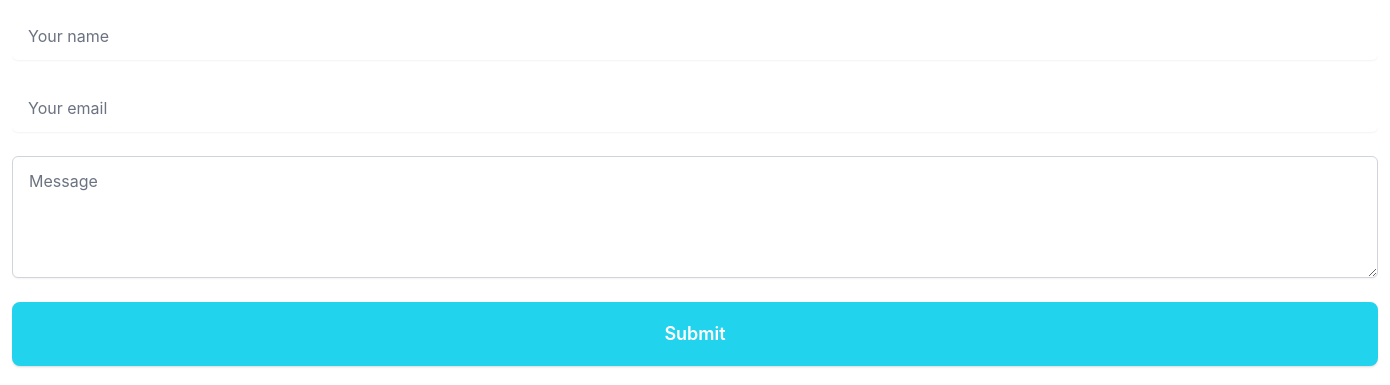
Test: does not send the email and informs me something went wrong
The width and height of the screenshot is (1390, 385).
Note: an email including "error" will result in a 500 response
Step 1. Type "error@example.com" into the field labelled "Your email" → x=695, y=108, box x1=12 y1=84 x2=1378 y2=132
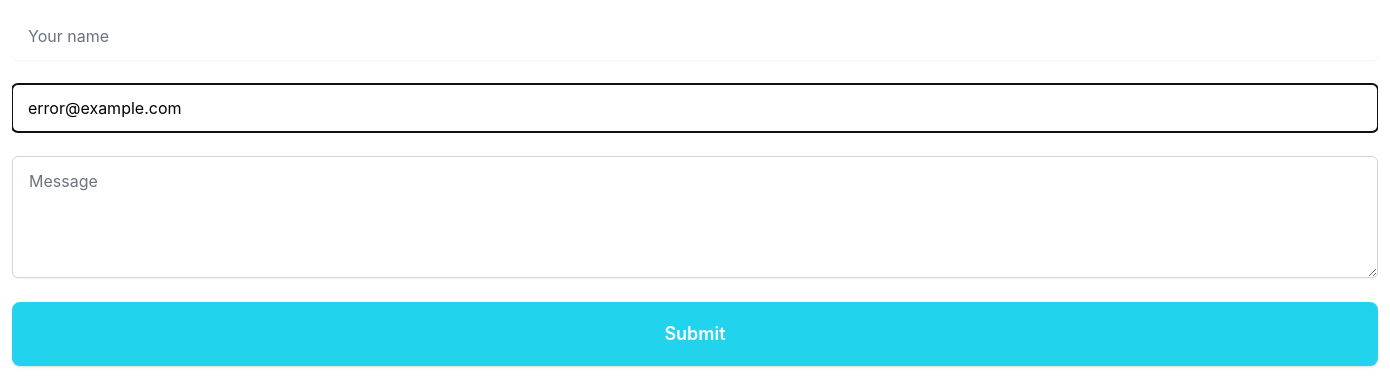
Step 2. Type "Elena Example" into the field labelled "Your name" → x=695, y=36, box x1=12 y1=12 x2=1378 y2=60
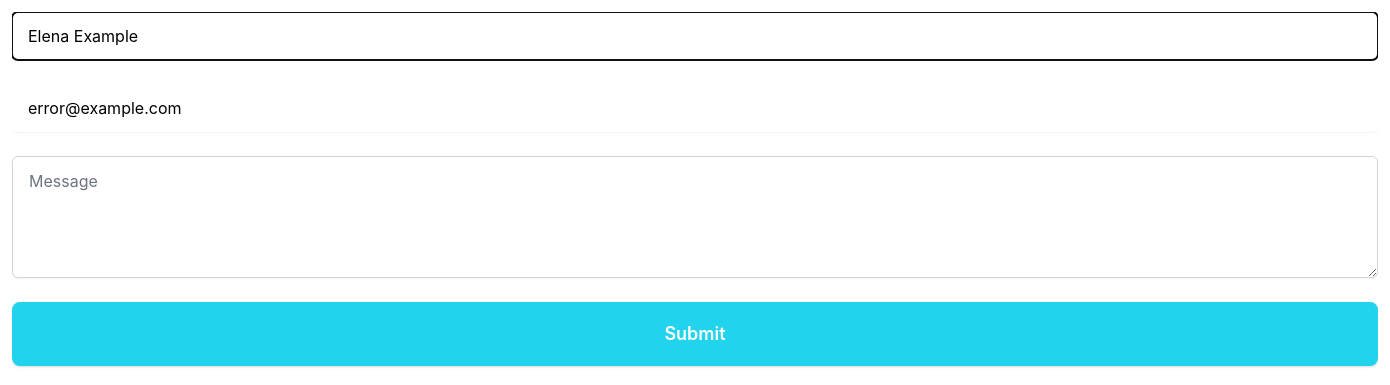
Step 3. Type "We should work together!" into the text box labelled "Message" → x=695, y=217, box x1=12 y1=156 x2=1378 y2=278
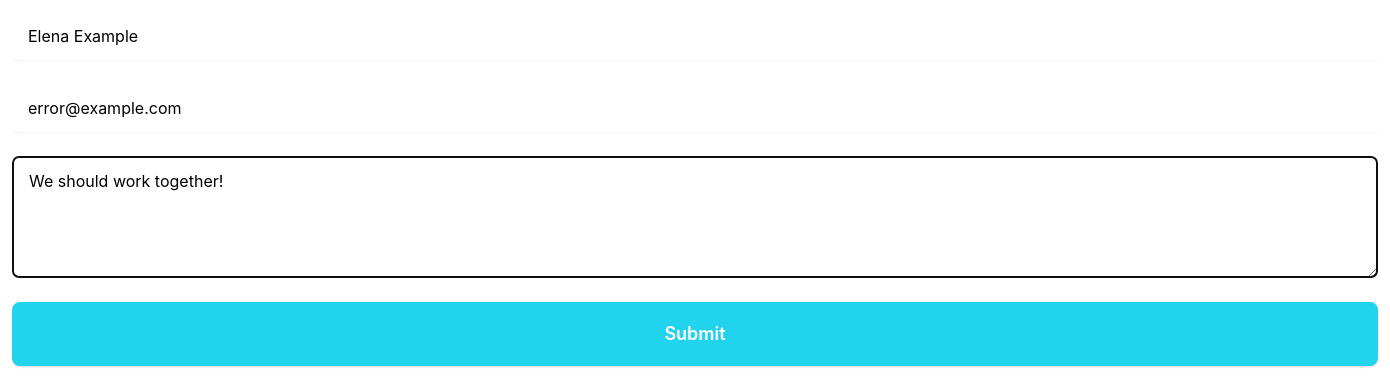
Step 4. Click the button "Submit" → x=695, y=334, box x1=12 y1=302 x2=1378 y2=366
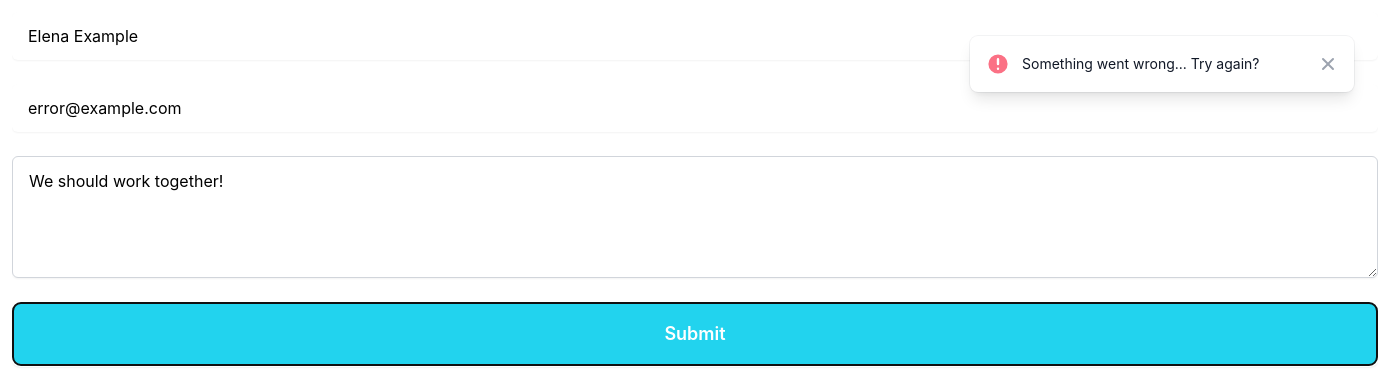
Now the message "Something went wrong... Try again?" is shown, box x1=970 y1=36 x2=1354 y2=92
